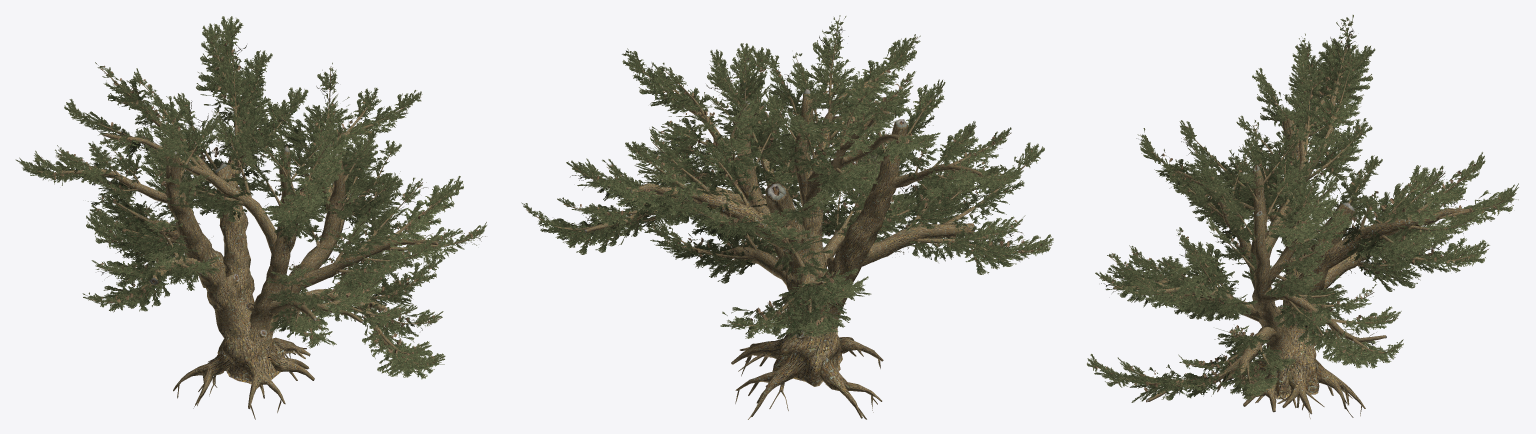
The model's file is cedre.glb.
3 views of the same model, side by side, from view 1: azimuth 30°, elevation 25°; view 2: azimuth 150°, elevation 25°; view 3: azimuth 270°, elevation 25° (orthographic). The views are drawn at different scales.
Visible parts, largest first — view 1: CedarOfLebanon_Med_Leaves_CedarOfLebanonNeedles_0, CedarOfLebanon_Med_Branches_CedarOfLebanonBark_0, CedarOfLebanon_Med_Fronds_Branches_01_0; view 2: CedarOfLebanon_Med_Leaves_CedarOfLebanonNeedles_0, CedarOfLebanon_Med_Branches_CedarOfLebanonBark_0, CedarOfLebanon_Med_Fronds_Branches_01_0; view 3: CedarOfLebanon_Med_Leaves_CedarOfLebanonNeedles_0, CedarOfLebanon_Med_Branches_CedarOfLebanonBark_0, CedarOfLebanon_Med_Fronds_Branches_01_0.
Part boxes in pixels (left/top/right/bottom): CedarOfLebanon_Med_Leaves_CedarOfLebanonNeedles_0: left=15, top=16, right=486, bottom=379; CedarOfLebanon_Med_Branches_CedarOfLebanonBark_0: left=31, top=43, right=479, bottom=419; CedarOfLebanon_Med_Fronds_Branches_01_0: left=37, top=28, right=485, bottom=330; CedarOfLebanon_Med_Leaves_CedarOfLebanonNeedles_0: left=521, top=15, right=1053, bottom=339; CedarOfLebanon_Med_Branches_CedarOfLebanonBark_0: left=526, top=32, right=1051, bottom=419; CedarOfLebanon_Med_Fronds_Branches_01_0: left=554, top=22, right=1025, bottom=340; CedarOfLebanon_Med_Leaves_CedarOfLebanonNeedles_0: left=1087, top=15, right=1518, bottom=402; CedarOfLebanon_Med_Branches_CedarOfLebanonBark_0: left=1097, top=21, right=1516, bottom=418; CedarOfLebanon_Med_Fronds_Branches_01_0: left=1101, top=23, right=1518, bottom=389.
Bounding box in the file's own units: 19.61 × 15.33 × 18.03.
4 materials, 4 textured.
